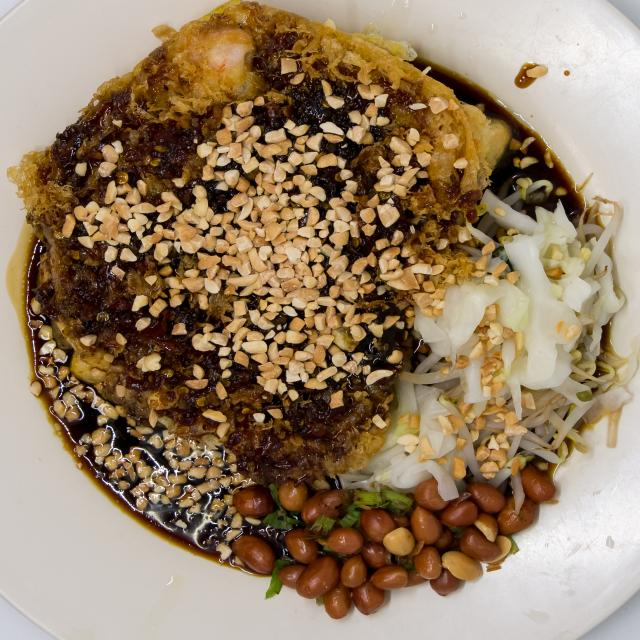Tahu-Telur: (37, 1, 604, 612)
